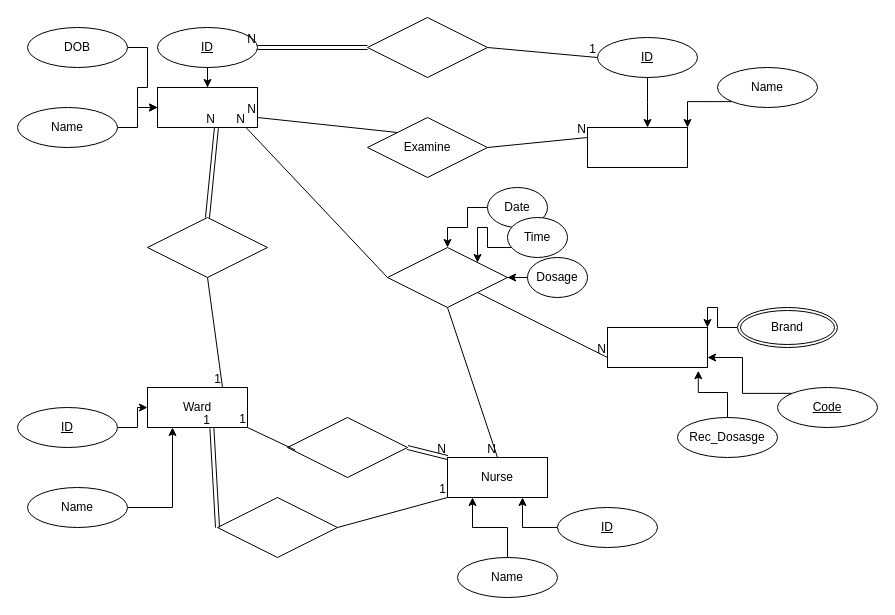
The diagram is 895 pixels wide and 615 high, and some of its shapes have lost their labels. Each missing label, with the box of its shape:
Assigned to: (366, 16, 488, 78)
Consultant: (586, 126, 688, 168)
Drug: (606, 326, 708, 368)
Gives: (386, 246, 508, 308)
Hosts: (146, 216, 268, 278)
Patient: (156, 86, 258, 128)
Serve in: (286, 416, 408, 478)
Supervise: (216, 496, 338, 558)
